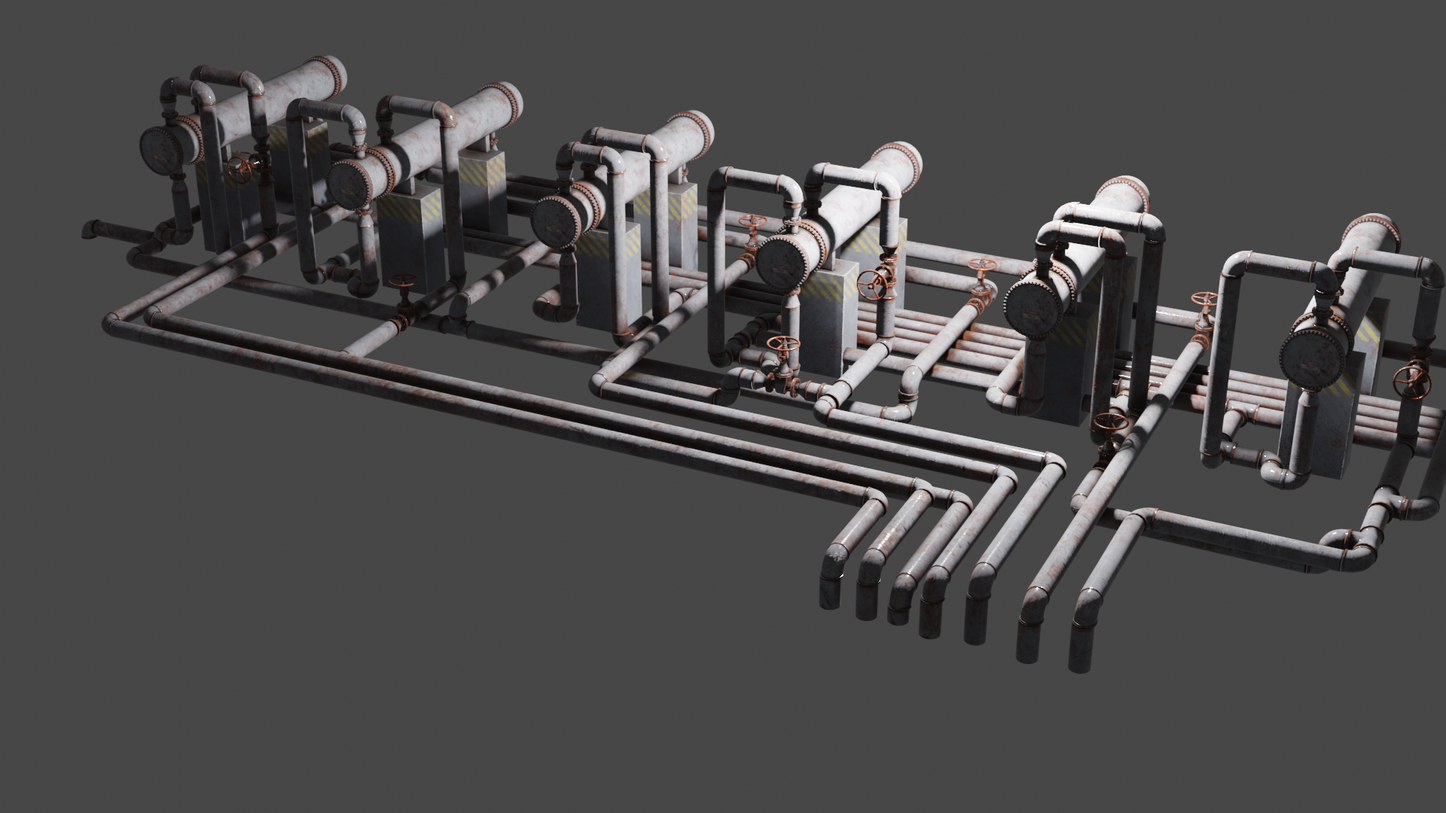HE_1: (136, 53, 346, 176)
HE_2: (326, 78, 522, 208)
HE_3: (531, 107, 722, 249)
HE_4: (756, 139, 924, 293)
HE_5: (1006, 176, 1151, 339)
HE_6: (1283, 209, 1400, 386)
